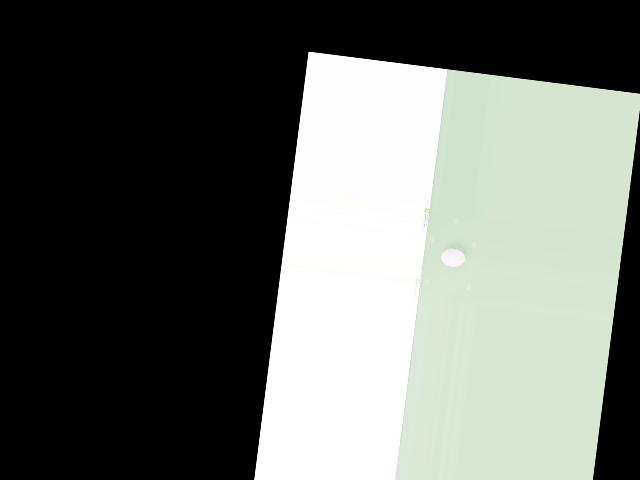egg: (440, 247, 465, 268)
